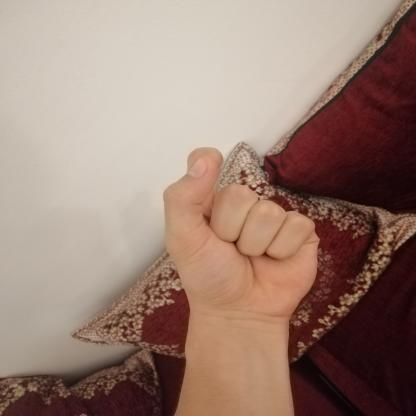FAA: (141, 136, 344, 330)
